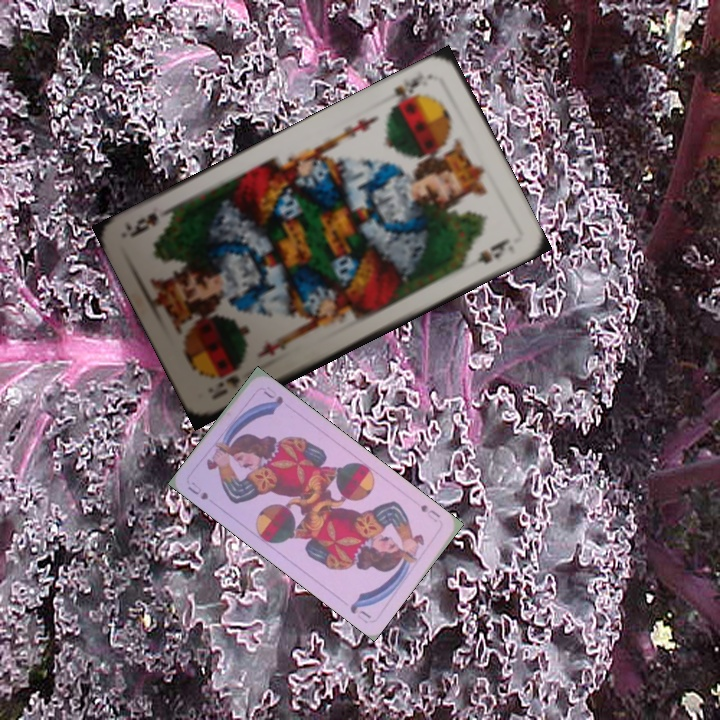SK: (386, 73, 424, 112), (207, 371, 243, 403)
SU: (183, 478, 211, 503), (416, 500, 443, 525)
